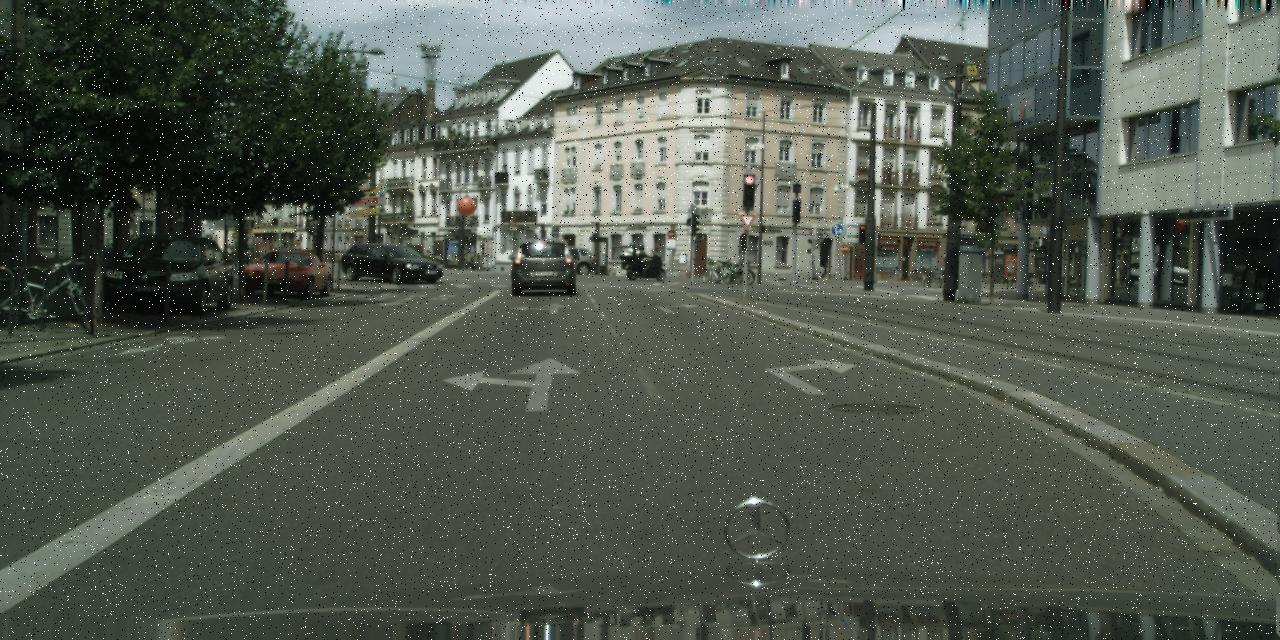ped: (638, 244, 650, 273), (423, 249, 431, 270)
